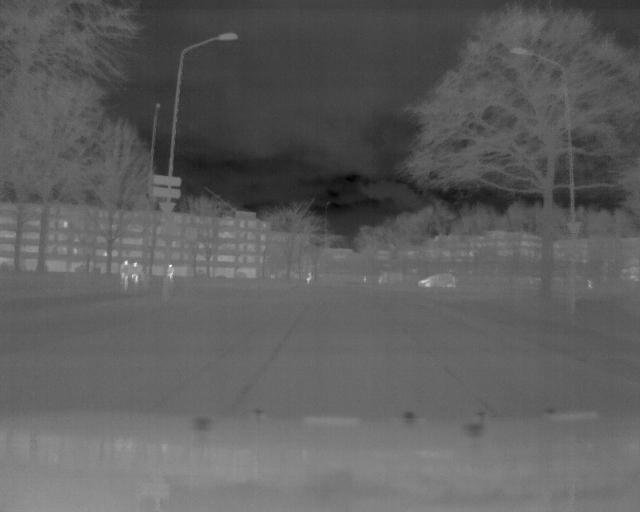car: (416, 271, 458, 289)
person: (117, 257, 132, 291), (131, 260, 142, 292)
